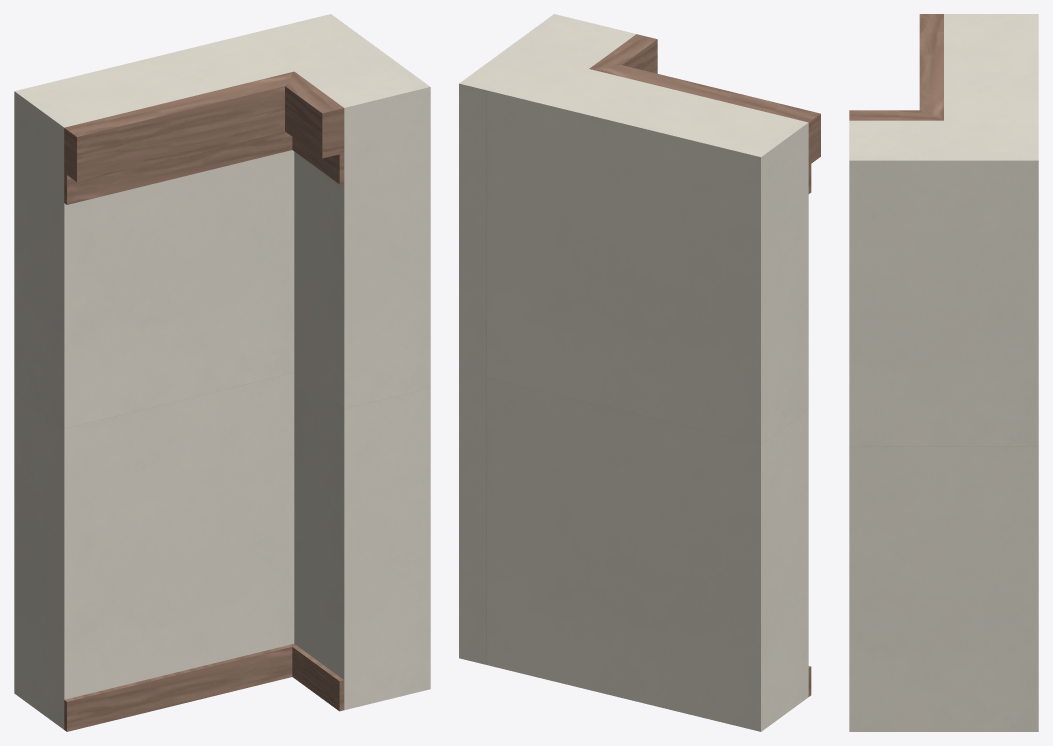
The model's file is LeftCornerWall.glb.
3 views of the same model, side by side, from view 1: azimuth 30°, elevation 25°; view 2: azimuth 150°, elevation 25°; view 3: azimuth 270°, elevation 25° (orthographic). The views are drawn at different scales.
Parts seen in each view (by area): view 1: Left Corner Wall; view 2: Left Corner Wall; view 3: Left Corner Wall.
Part boxes in pixels (x1,y1,x2,y2): Left Corner Wall: (14, 14, 430, 731); Left Corner Wall: (459, 14, 820, 731); Left Corner Wall: (849, 14, 1038, 731).
Size of the model in its own units: 2.2 by 4 by 1.2.
1 material, 1 textured.
